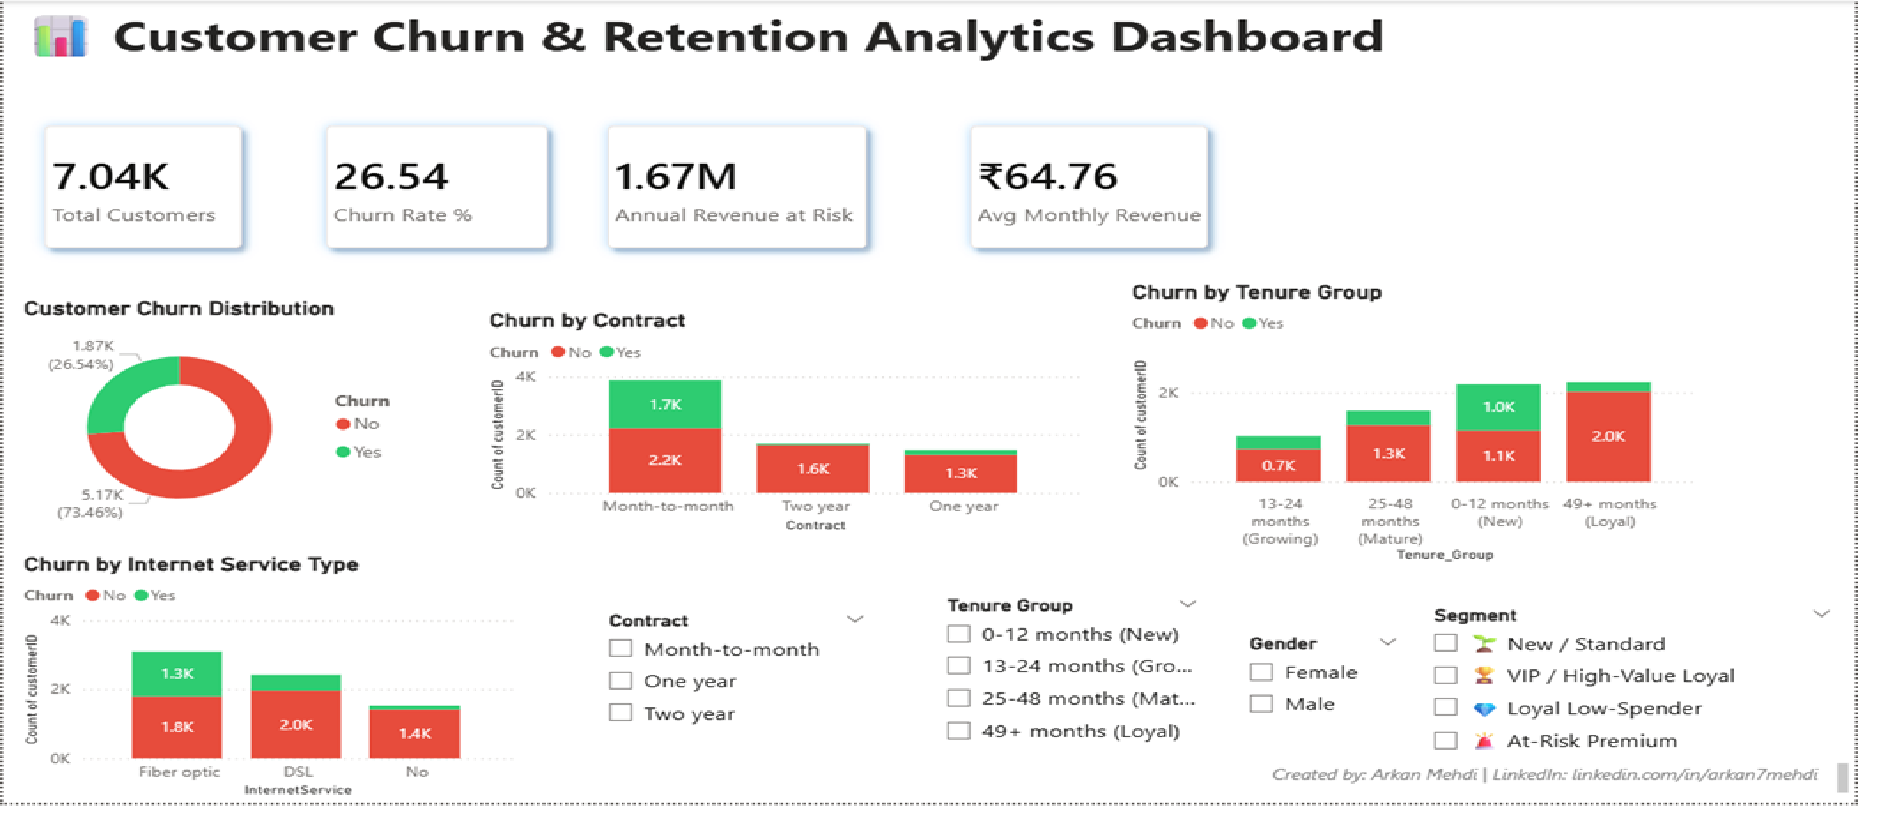

This screenshot's page, from the dashboard's own definition file:
{"tool":"powerbi","page":{"name":"Page 1","canvas":[1280,720],"ordinal":0},"visuals":[{"type":"textbox","box":[9.8,0,1270.5,280],"z":0},{"type":"cardVisual","fields":{"Data":["telco_churn_segmented.Total Customers"]},"box":[0,83.2,194.4,168.8],"z":1000},{"type":"cardVisual","fields":{"Data":["telco_churn_segmented.Churn Rate %"]},"box":[194.4,83.2,211.6,168.8],"z":2000},{"type":"cardVisual","fields":{"Data":["telco_churn_segmented.Avg Monthly Revenue"]},"box":[639.5,83.2,222.6,168.8],"z":3000},{"type":"cardVisual","fields":{"Data":["telco_churn_segmented.Annual Revenue at Risk"]},"box":[388.9,83.2,237.2,168.8],"z":4000},{"type":"donutChart","title":"Customer Churn Distribution","fields":{"Category":["telco_churn_segmented.Churn"],"Y":["CountNonNull(telco_churn_segmented.customerID)"]},"box":[9.8,265.4,282.5,216.4],"z":5000},{"type":"columnChart","title":" Churn by Contract","fields":{"Series":["telco_churn_segmented.Churn"],"Y":["CountNonNull(telco_churn_segmented.customerID)"],"Category":["telco_churn_segmented.Contract"]},"box":[331.4,277,419.4,205.4],"z":6000},{"type":"columnChart","title":"Churn by Tenure Group","fields":{"Category":["telco_churn_segmented.Tenure_Group"],"Y":["CountNonNull(telco_churn_segmented.customerID)"],"Series":["telco_churn_segmented.Churn"]},"box":[775.3,250.7,401.1,258],"z":7000},{"type":"columnChart","title":"Churn by Internet Service Type","fields":{"Category":["telco_churn_segmented.InternetService"],"Y":["CountNonNull(telco_churn_segmented.customerID)"],"Series":["telco_churn_segmented.Churn"]},"box":[9.8,495.2,347.3,225],"z":8000},{"type":"slicer","fields":{"Values":["telco_churn_segmented.gender"]},"box":[848.6,564,127.2,102.7],"z":9000},{"type":"slicer","fields":{"Values":["telco_churn_segmented.Contract"]},"box":[406,543.2,201.8,144.3],"z":10000},{"type":"slicer","fields":{"Values":["telco_churn_segmented.Segment"]},"box":[975.8,537.7,299.6,155.3],"z":11000},{"type":"slicer","fields":{"Values":["telco_churn_segmented.Tenure_Group"]},"box":[639.5,529.1,198.1,172.4],"z":12000},{"type":"textbox","box":[871.9,679.9,408.4,40.4],"z":13000}]}

Visuals, with their boxes on the page's 1280x720 design canvas (x1, y1, x2, y2). These are canvas units, not pixel positions in the 1895x816 screenshot, which may show the page scaled, cropped or inside an application window:
textbox: box=[10, 0, 1280, 280]
cardVisual - telco_churn_segmented.Total Customers: box=[0, 83, 194, 252]
cardVisual - telco_churn_segmented.Churn Rate %: box=[194, 83, 406, 252]
cardVisual - telco_churn_segmented.Avg Monthly Revenue: box=[640, 83, 862, 252]
cardVisual - telco_churn_segmented.Annual Revenue at Risk: box=[389, 83, 626, 252]
"Customer Churn Distribution" donutChart: box=[10, 265, 292, 482]
" Churn by Contract" columnChart: box=[331, 277, 751, 482]
"Churn by Tenure Group" columnChart: box=[775, 251, 1176, 509]
"Churn by Internet Service Type" columnChart: box=[10, 495, 357, 720]
slicer - telco_churn_segmented.gender: box=[849, 564, 976, 667]
slicer - telco_churn_segmented.Contract: box=[406, 543, 608, 688]
slicer - telco_churn_segmented.Segment: box=[976, 538, 1275, 693]
slicer - telco_churn_segmented.Tenure_Group: box=[640, 529, 838, 702]
textbox: box=[872, 680, 1280, 720]
